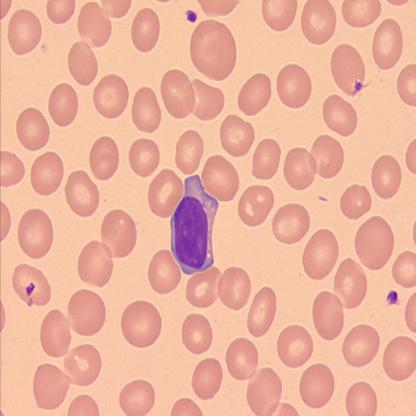Atypical lymphocyte: (168, 175, 222, 275)
